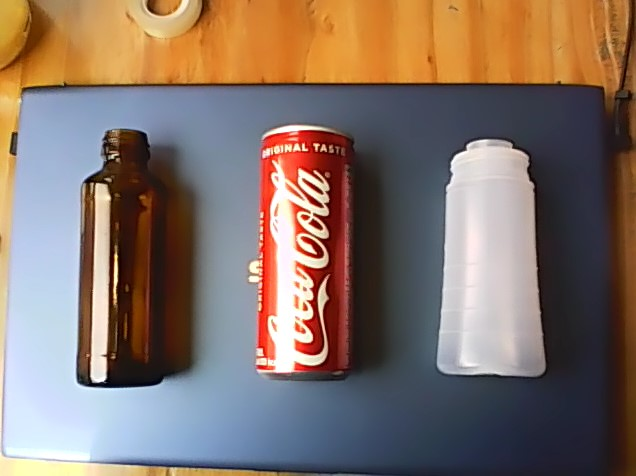Can: (248, 122, 360, 385)
Glass: (72, 125, 169, 392)
Plastic: (432, 132, 550, 381)
